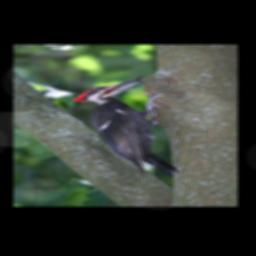Woodpecker: (71, 78, 179, 177)
